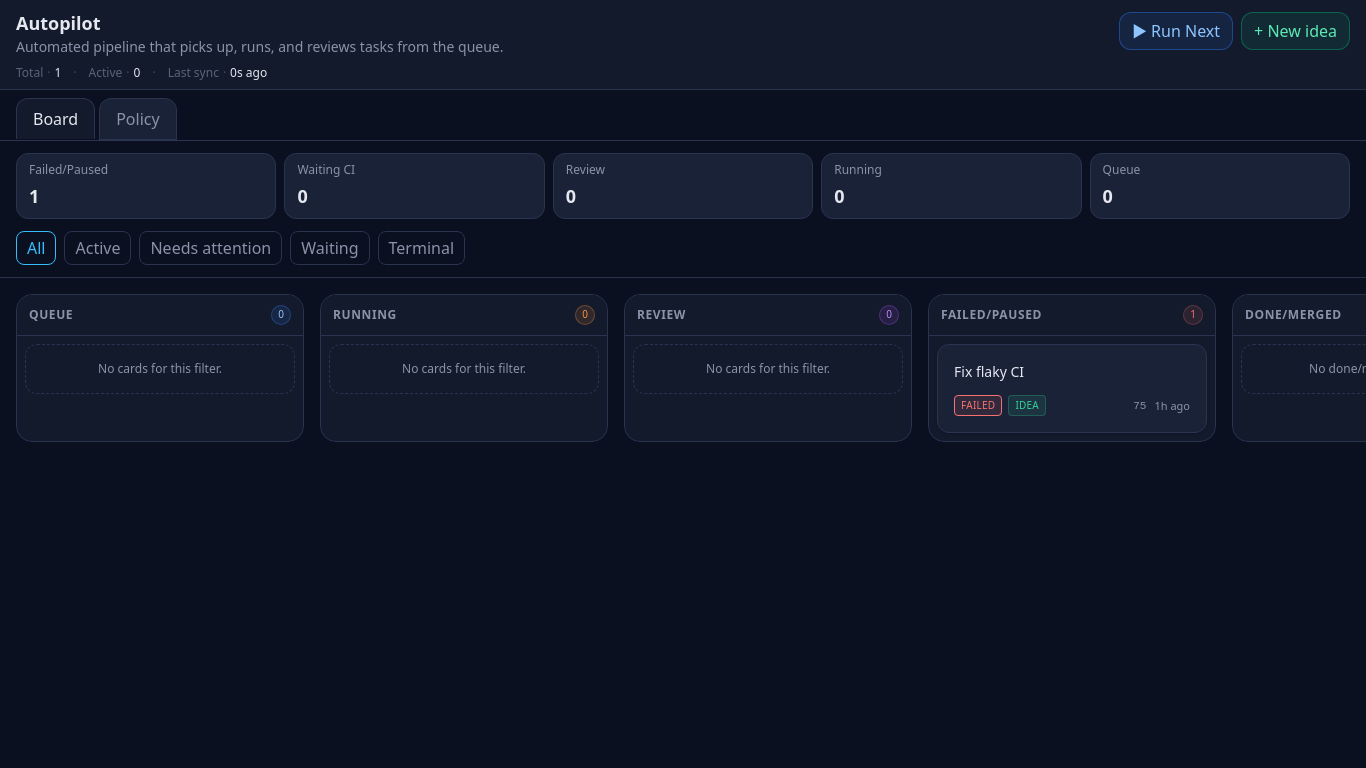
Test: PipelinePage › shows blocker banner for failed cards with note and PR actions
Click the text "Fix flaky CI". click: (989, 371)
box: [954,362,1024,380]
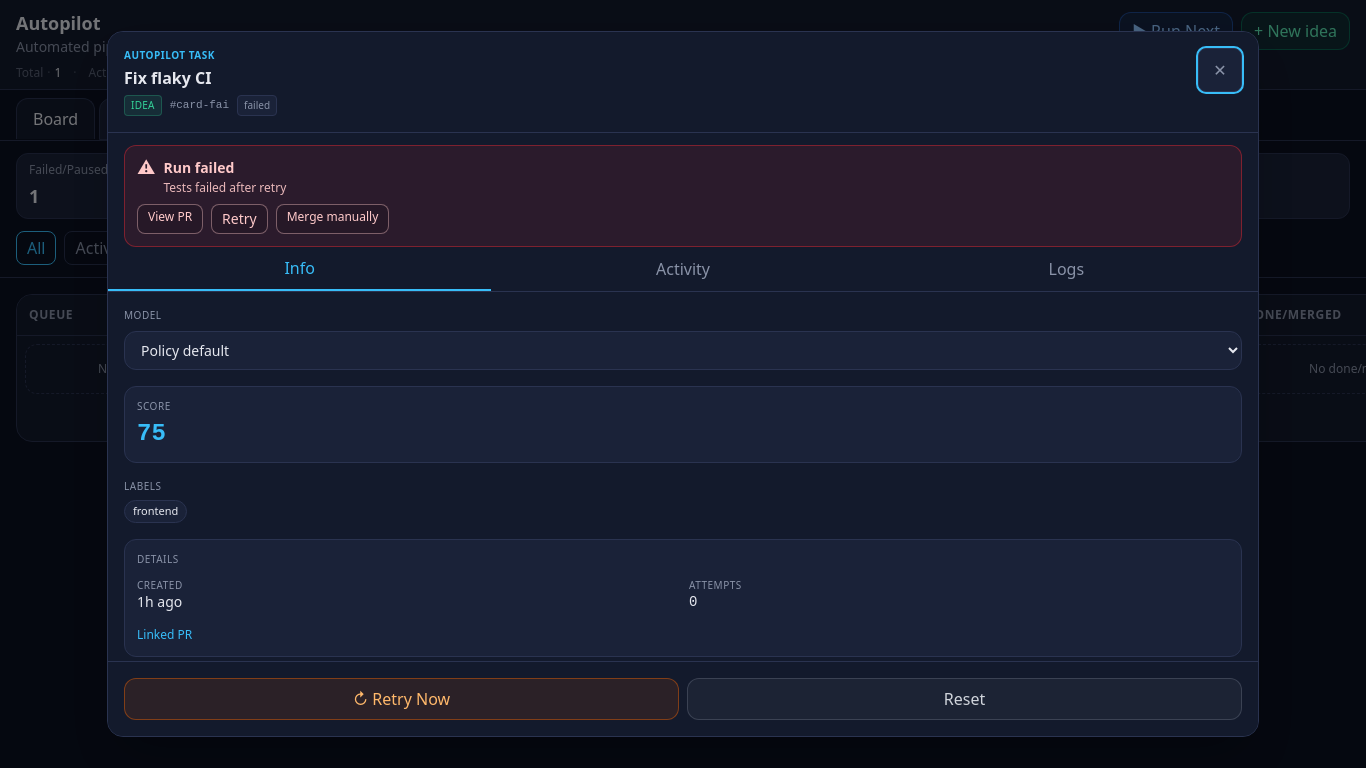
Now the message "⚠ Run failed Tests failed after retry View PR Retry Merge manually" is shown, box [124,145,1242,247]
Now the text "Run failed" is shown, box [164,158,234,177]
Now the text "Tests failed after retry" is shown, box [164,179,286,196]
